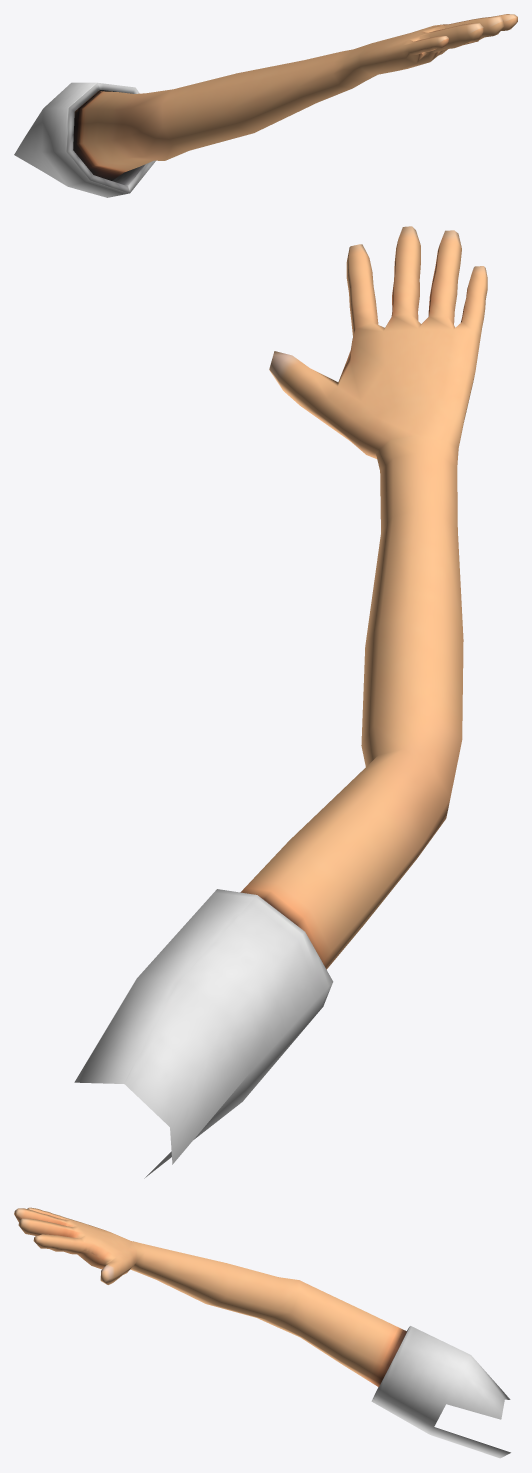
The model's file is nurse_seated_waving_arm.glb.
3 views of the same model, one above another, from view 1: azimuth 30°, elevation 25°; view 2: azimuth 150°, elevation 25°; view 3: azimuth 270°, elevation 25° (orthographic). The views are drawn at different scales.
Parts seen in each view (by area): view 1: world; view 2: world; view 3: world.
Boxes of the visible parts, x1,y1,x2,y2 form: world: (14,14,517,197); world: (74,226,487,1178); world: (14,1207,510,1458).
Size of the model in its own units: 0.2081 by 0.3076 by 0.4994.
1 material, 1 textured.
